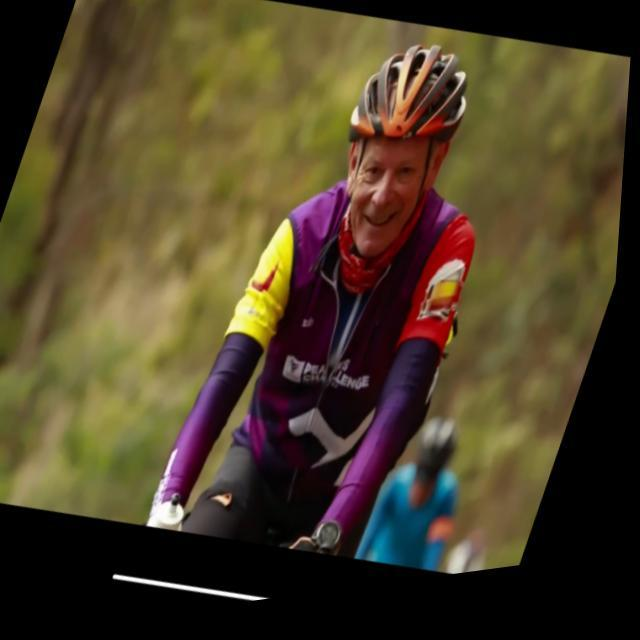Helmet: (346, 41, 469, 266)
